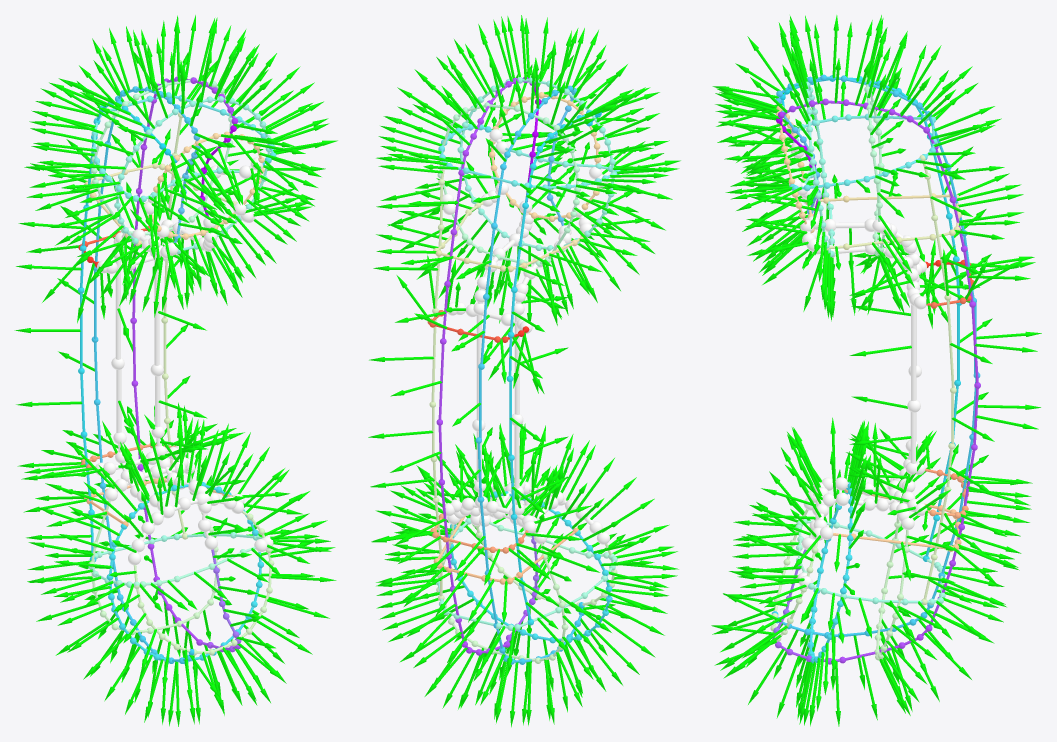
The model's file is flowrep_phone.gltf.
3 views of the same model, side by side, from view 1: azimuth 30°, elevation 25°; view 2: azimuth 150°, elevation 25°; view 3: azimuth 270°, elevation 25° (orthographic).
Size of the model in its own units: 0.4614 by 1.11 by 0.4902.
